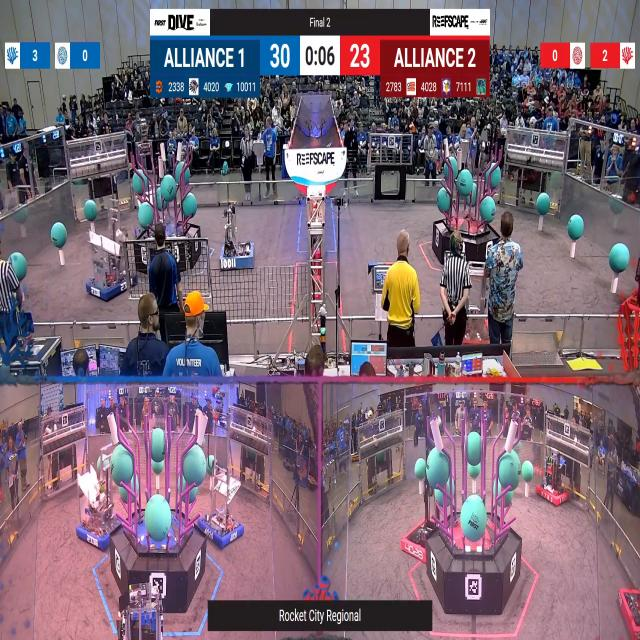scoreboard: (150, 35, 490, 97)
